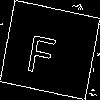F: (24, 24, 60, 77)
